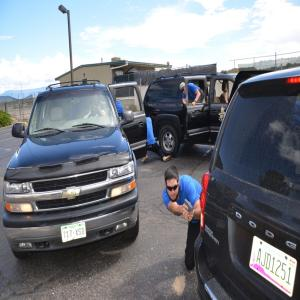Vehicle-registration-plate: (250, 239, 294, 288), (62, 224, 87, 243)
